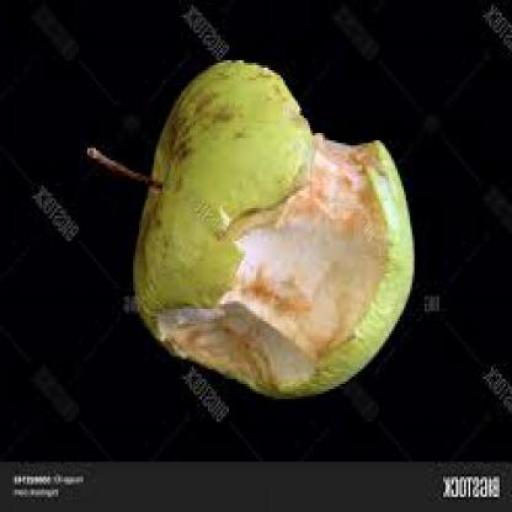biodegradable: (89, 55, 417, 397)
